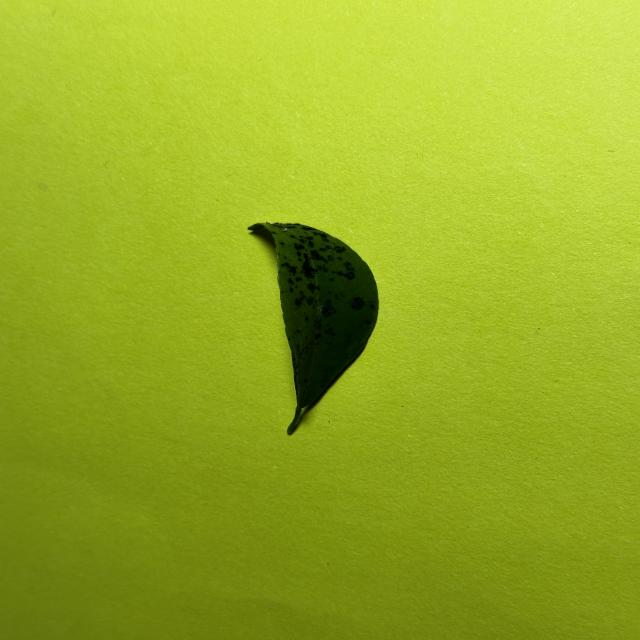sooty_mold: (249, 222, 378, 434)
